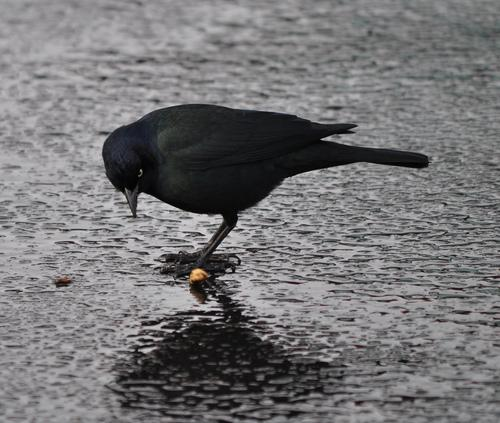009.Brewer_Blackbird: (100, 102, 432, 277)
